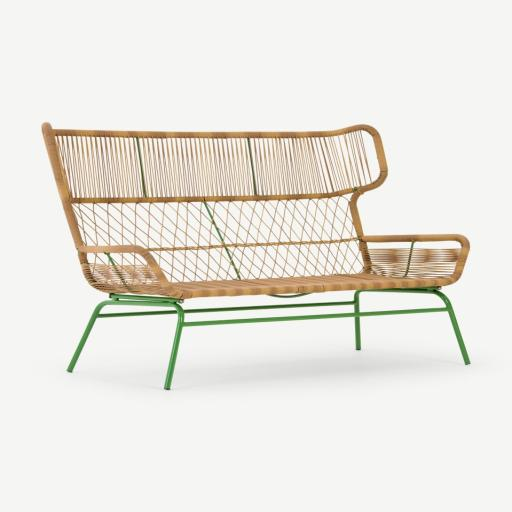back_cushion: (50, 125, 386, 281)
left_arm: (361, 234, 469, 251)
legs: (67, 287, 470, 390)
right_arm: (77, 245, 178, 297)
seat_cushion: (140, 271, 454, 299)
two-seater: (0, 0, 511, 512)
